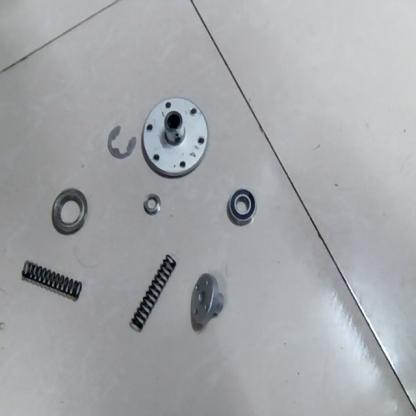FOD: (3, 2, 401, 412), (140, 94, 210, 180), (128, 250, 178, 336), (17, 257, 84, 304), (186, 270, 225, 332), (51, 185, 89, 238), (104, 123, 139, 167), (225, 184, 258, 227), (140, 189, 162, 220)
